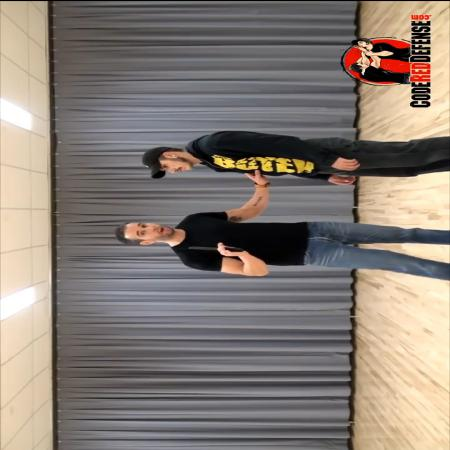long weapon: (184, 241, 244, 255)
